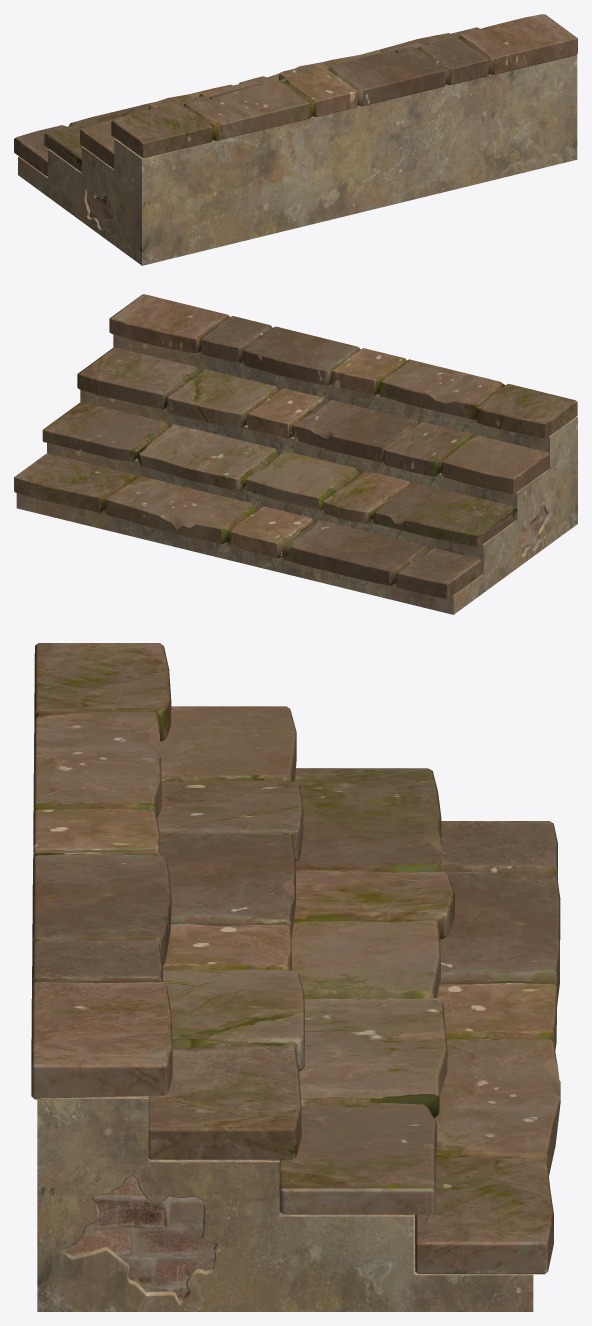
3 renders of one model, top to bottom at view 1: azimuth 30°, elevation 25°; view 2: azimuth 150°, elevation 25°; view 3: azimuth 270°, elevation 25°, orthographic. The views are drawn at different scales.
Parts seen in each view (by area): view 1: SM_Human_Ruins_Steps_02_LOD0; view 2: SM_Human_Ruins_Steps_02_LOD0; view 3: SM_Human_Ruins_Steps_02_LOD0.
Boxes of the visible parts, x1,y1,x2,y2 form: SM_Human_Ruins_Steps_02_LOD0: (14, 14, 577, 265); SM_Human_Ruins_Steps_02_LOD0: (14, 294, 577, 614); SM_Human_Ruins_Steps_02_LOD0: (31, 643, 560, 1311).
Size of the model in its own units: 4 by 1.08 by 2.11.
Materials: 3 (3 with a texture image).
